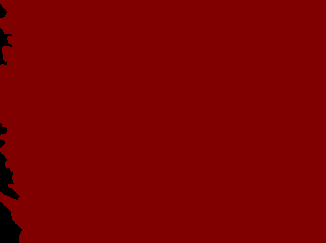Sky: (1, 1, 325, 242)
